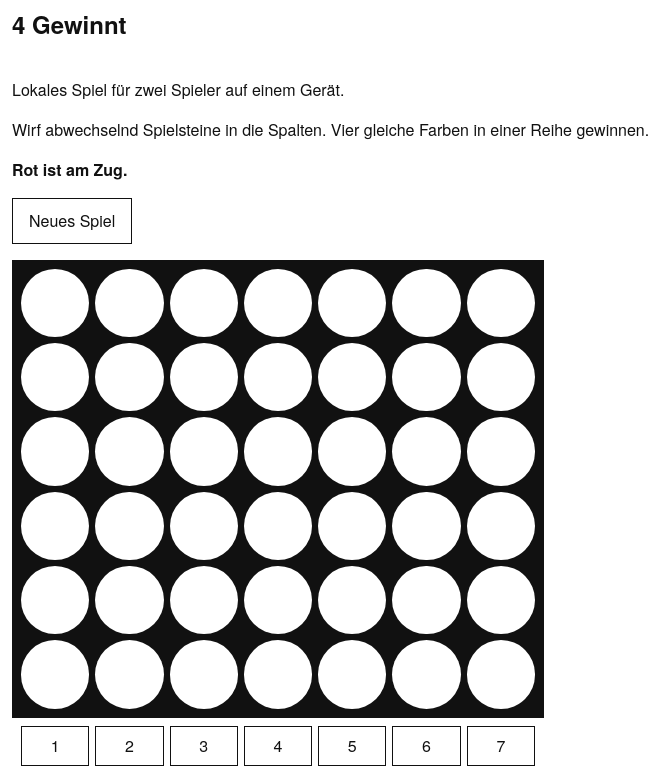
it: ConnectFour offline module › applies local moves and switches turns
Click the button named "Stein in Spalte 1 werfen".
click(55, 746)  # box [21, 726, 89, 766]
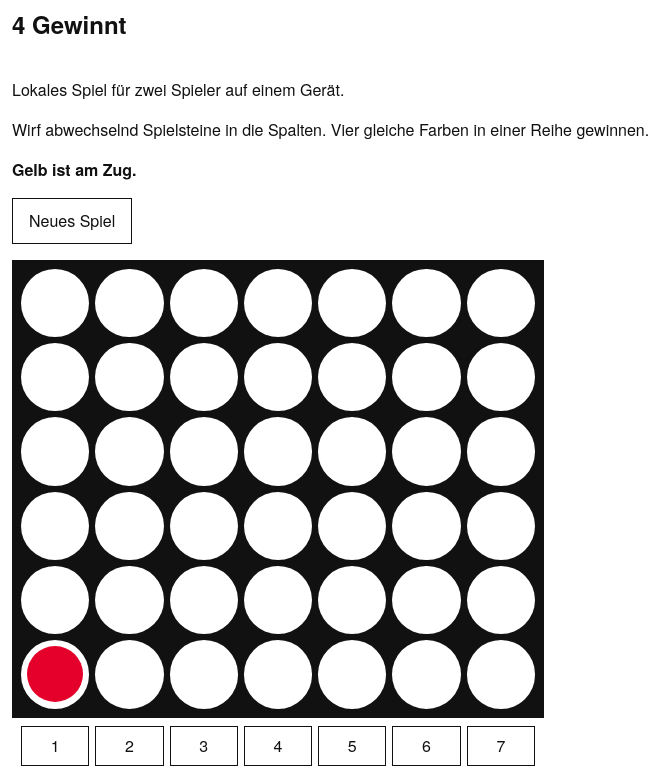
Now the cell named "Reihe 6, Spalte 1: Rot" is shown, box [21, 640, 89, 709]
Now the text "Gelb ist am Zug." is shown, box [12, 158, 136, 181]
